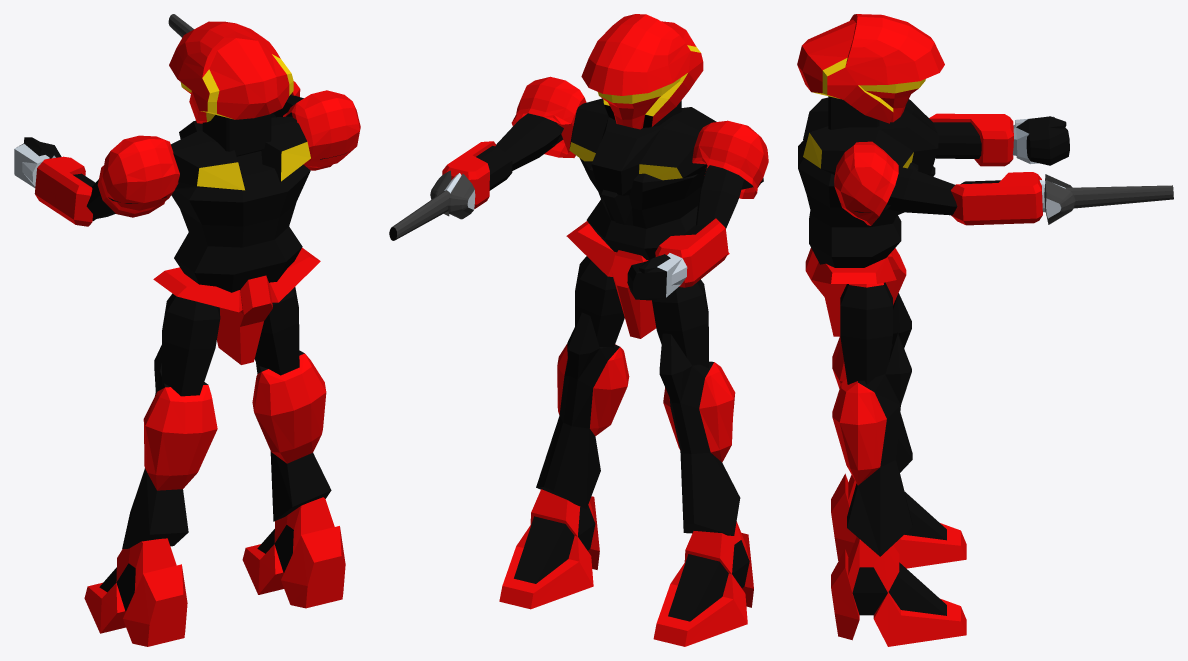
The model's file is Player.FBX.
3 views of the same model, side by side, from view 1: azimuth 30°, elevation 25°; view 2: azimuth 150°, elevation 25°; view 3: azimuth 270°, elevation 25° (orthographic). The views are drawn at different scales.
Parts seen in each view (by area): view 1: VIFS005, VIFS002, VIFS025, VIFS014, VIFS018, VIFS020, VIFS027, VIFS009, VIFS023, VIFS012, VIFS006, VIFS035 (+11 smaller); view 2: VIFS002, VIFS026, VIFS006, VIFS019, VIFS005, VIFS012, VIFS027, VIFS020, VIFS009, VIFS023, VIFS014, VIFS028 (+13 smaller); view 3: VIFS002, VIFS019, VIFS005, VIFS012, VIFS006, VIFS016, VIFS020, VIFS038, VIFS018, VIFS035, VIFS027, VIFS014 (+7 smaller).
Part boxes in pixels (x1,y1,x2,y2): VIFS005: (171, 164, 310, 292); VIFS002: (169, 21, 289, 123); VIFS025: (143, 385, 217, 490); VIFS014: (153, 247, 320, 364); VIFS018: (252, 353, 326, 463); VIFS020: (242, 526, 345, 608); VIFS027: (84, 564, 187, 646); VIFS009: (97, 135, 179, 217); VIFS023: (162, 293, 220, 396); VIFS012: (14, 137, 95, 226); VIFS006: (171, 116, 307, 190); VIFS035: (283, 90, 360, 170); VIFS002: (581, 14, 703, 129); VIFS026: (659, 333, 740, 535); VIFS006: (569, 98, 716, 195); VIFS019: (536, 312, 619, 508); VIFS005: (579, 158, 707, 260); VIFS012: (627, 218, 728, 300); VIFS027: (653, 533, 753, 646); VIFS020: (499, 496, 599, 609); VIFS009: (692, 120, 768, 198); VIFS023: (652, 279, 708, 368); VIFS014: (566, 221, 729, 338); VIFS028: (668, 540, 749, 621); VIFS002: (797, 14, 944, 123); VIFS019: (847, 332, 912, 556); VIFS005: (798, 131, 935, 267); VIFS012: (929, 113, 1069, 166); VIFS006: (803, 97, 938, 175); VIFS016: (840, 282, 892, 385); VIFS020: (831, 549, 966, 646); VIFS038: (951, 172, 1042, 225); VIFS018: (832, 379, 886, 485); VIFS035: (834, 141, 898, 225); VIFS027: (831, 473, 966, 568); VIFS014: (805, 248, 906, 336).
Bounding box in the file's own units: 1.1 × 2.48 × 1.48.
